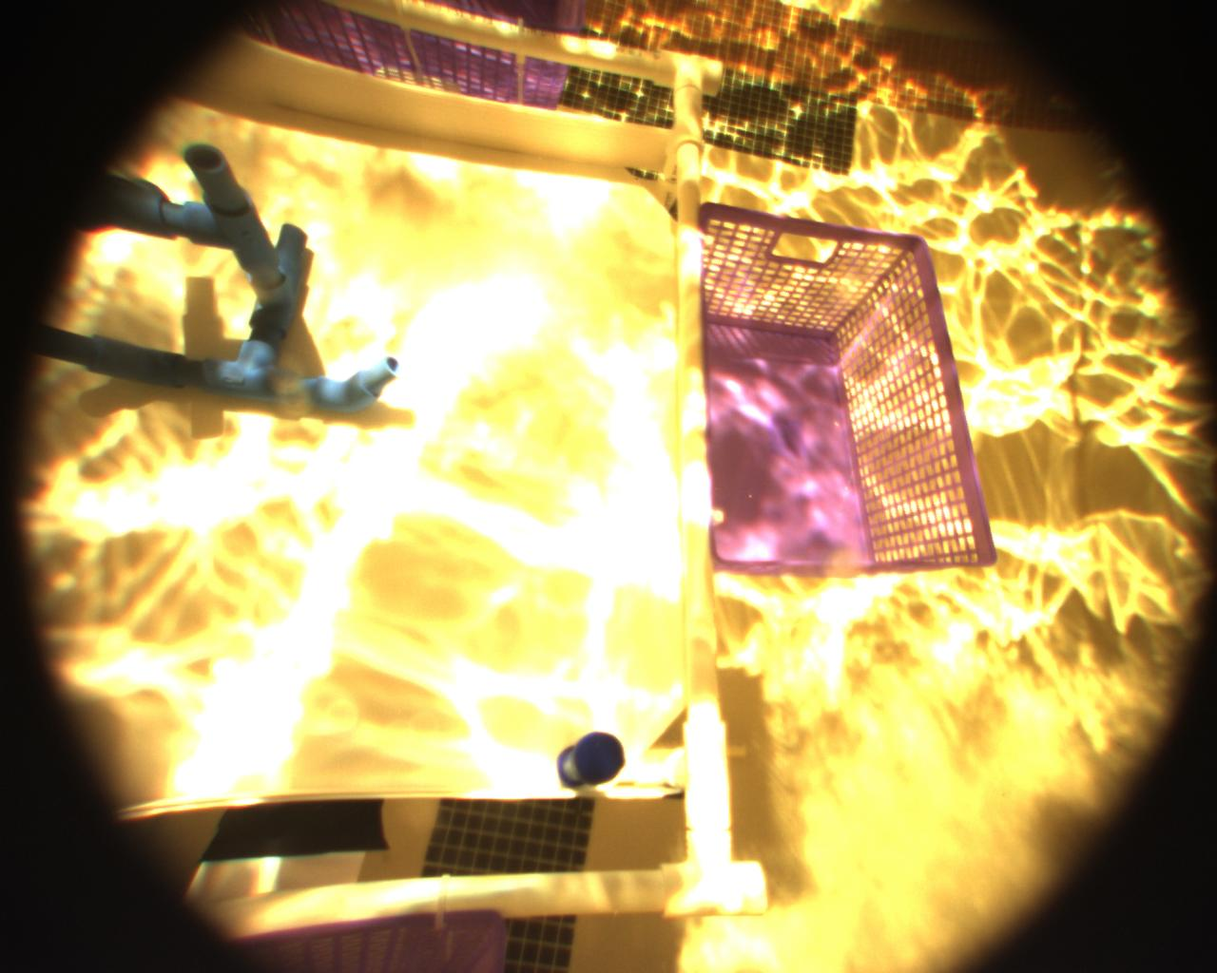coral: (2, 170, 407, 447), (546, 723, 633, 804)
coral-box-top: (19, 127, 680, 853)
